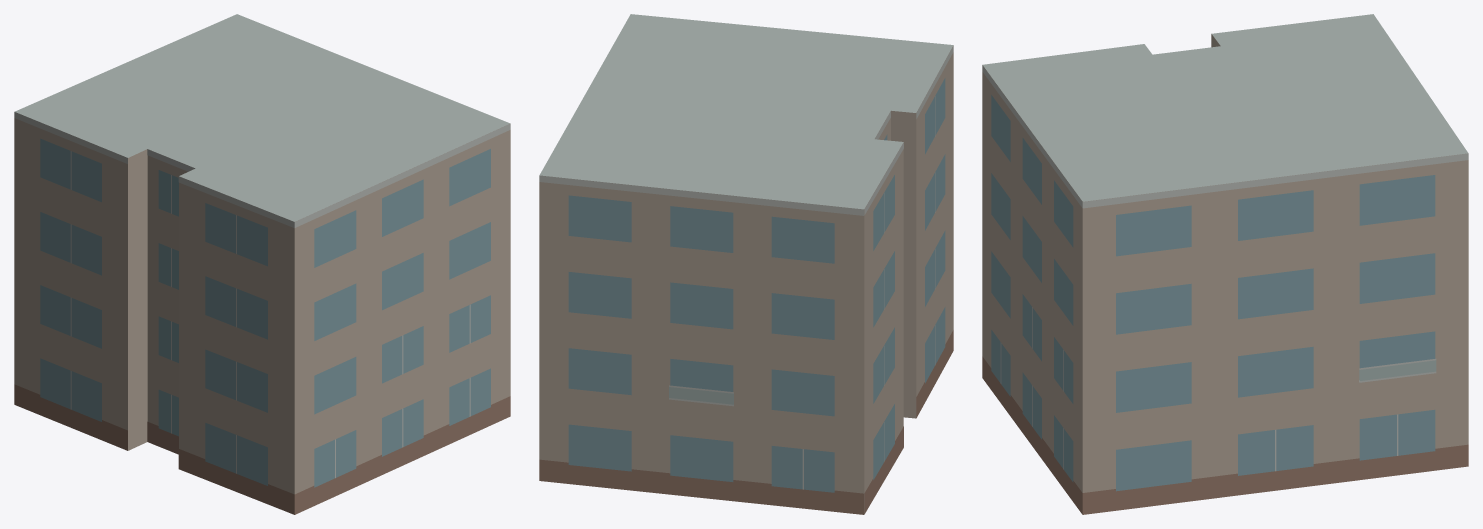
Rendered from survey-upis-32612761.glb.
The picture shows the model from 3 angles, left to right: view 1: azimuth 30°, elevation 25°; view 2: azimuth 150°, elevation 25°; view 3: azimuth 270°, elevation 25°; orthographic projection. The views are drawn at different scales.
Parts seen in each view (by area): view 1: survey-upis-32612761.tmp; view 2: survey-upis-32612761.tmp; view 3: survey-upis-32612761.tmp.
Boxes of the visible parts, bbox=[...] form: survey-upis-32612761.tmp: bbox=[14, 14, 510, 514]; survey-upis-32612761.tmp: bbox=[539, 14, 953, 514]; survey-upis-32612761.tmp: bbox=[982, 14, 1468, 514].
Bounding box in the file's own units: 14.67 × 11.4 × 16.05.
